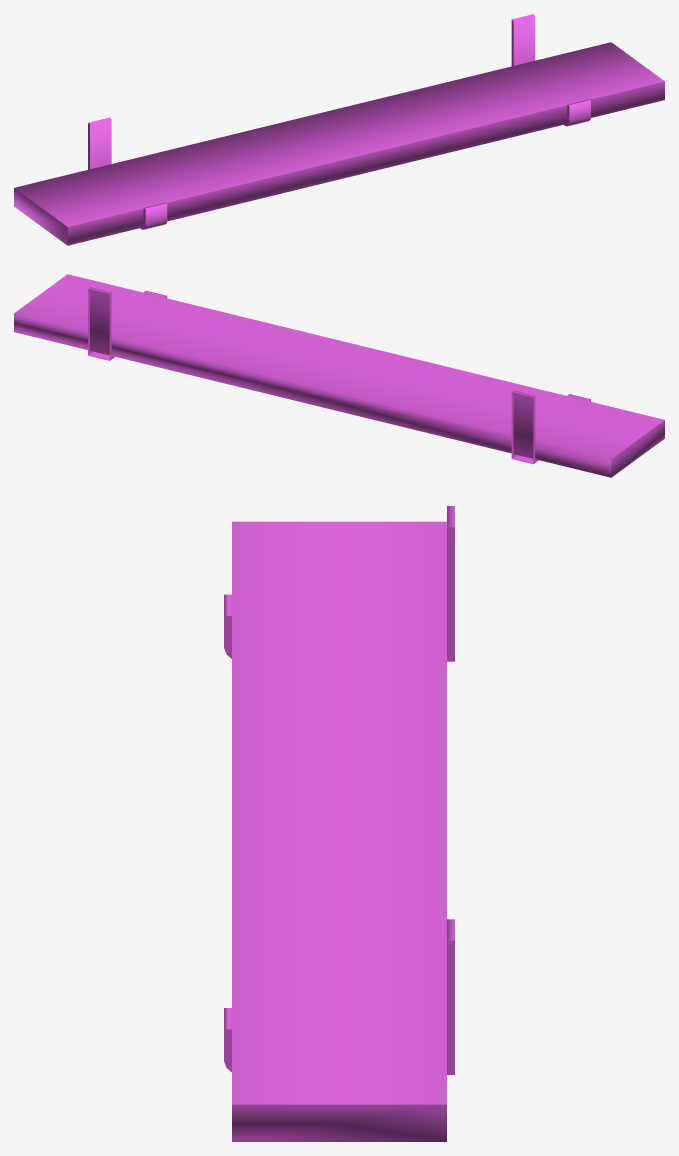
The model's file is WorkPlank_Prop.fbx.
The picture shows the model from 3 angles, top to bottom: view 1: azimuth 30°, elevation 25°; view 2: azimuth 150°, elevation 25°; view 3: azimuth 270°, elevation 25°; orthographic projection. The views are drawn at different scales.
Parts seen in each view (by area): view 1: WorkPlank_mesh; view 2: WorkPlank_mesh; view 3: WorkPlank_mesh.
Part boxes in pixels (box(x1,y1,x2,y2)): WorkPlank_mesh: box(14, 14, 664, 245); WorkPlank_mesh: box(14, 274, 664, 477); WorkPlank_mesh: box(224, 506, 454, 1141).
Bounding box in the file's own units: 1705 × 183 × 286.
